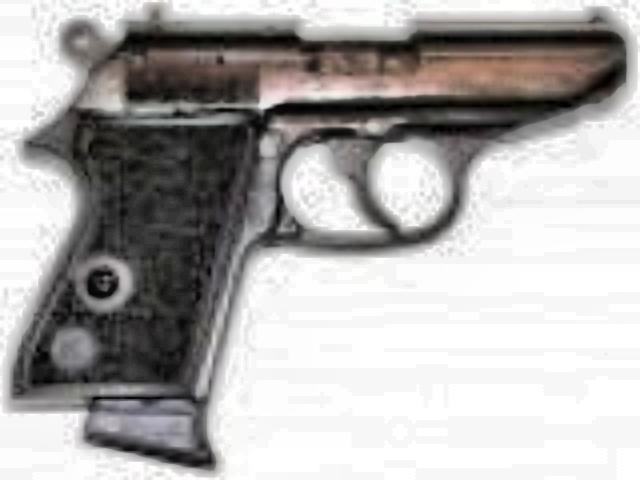pistol: (28, 0, 612, 428)
